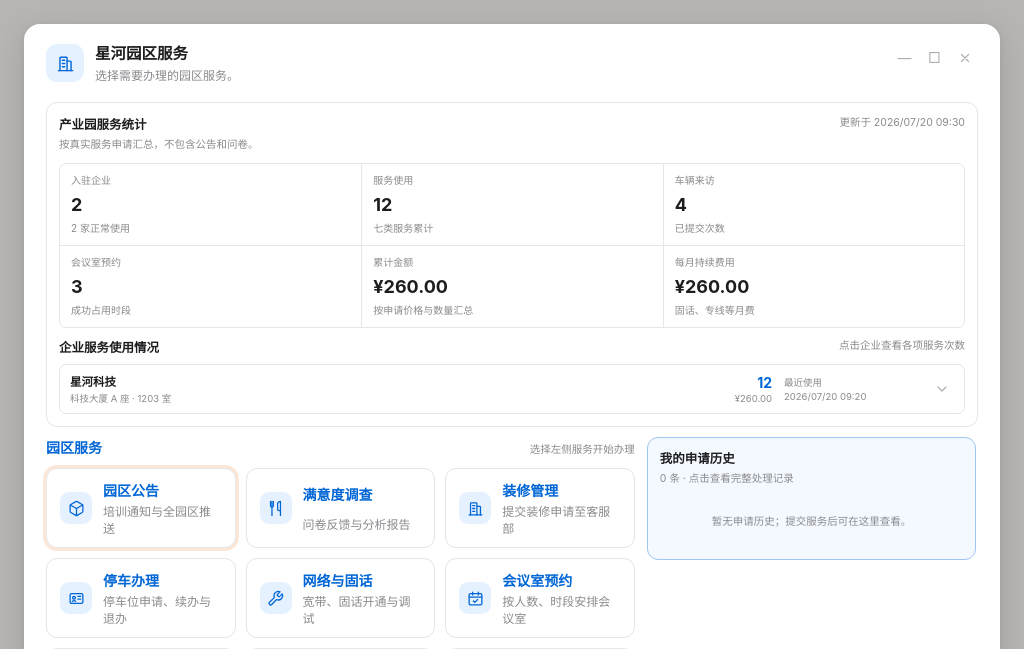
Test case: ParkServicesPlugin › 产业园管理方可查看总量并展开企业的七类服务使用次数
Click the button "星河科技 科技大厦 A 座 · 1203 室 12 ¥260.00 最近使用 2026/07/20 09:20" at (93,382), box [60,364,964,412]
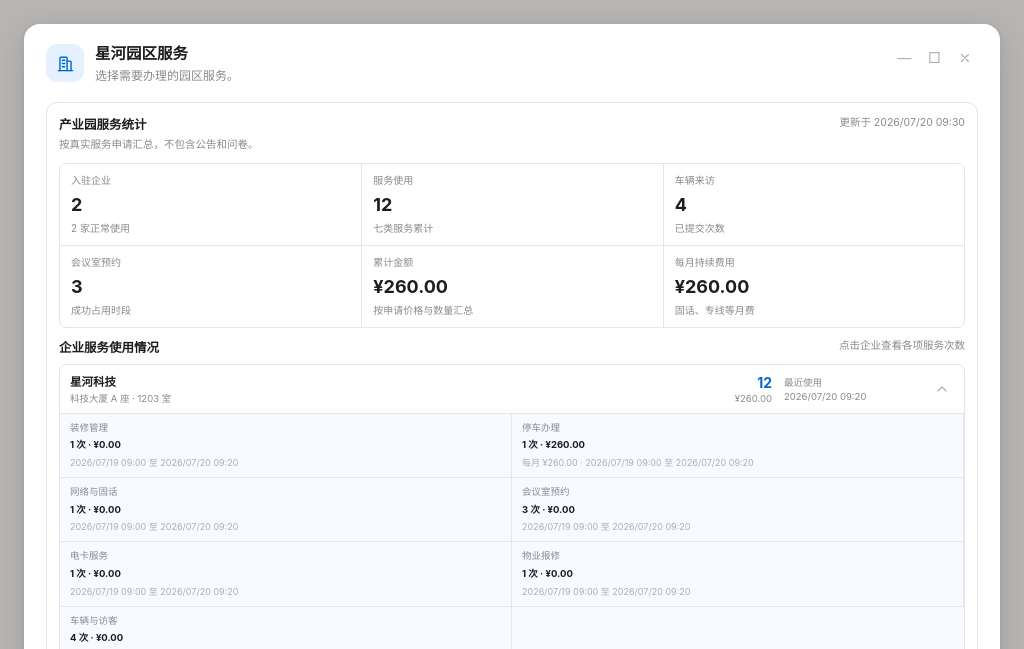
Now the button "星河科技 科技大厦 A 座 · 1203 室 12 ¥260.00 最近使用 2026/07/20 09:20" is expanded, box [60,364,964,412]
